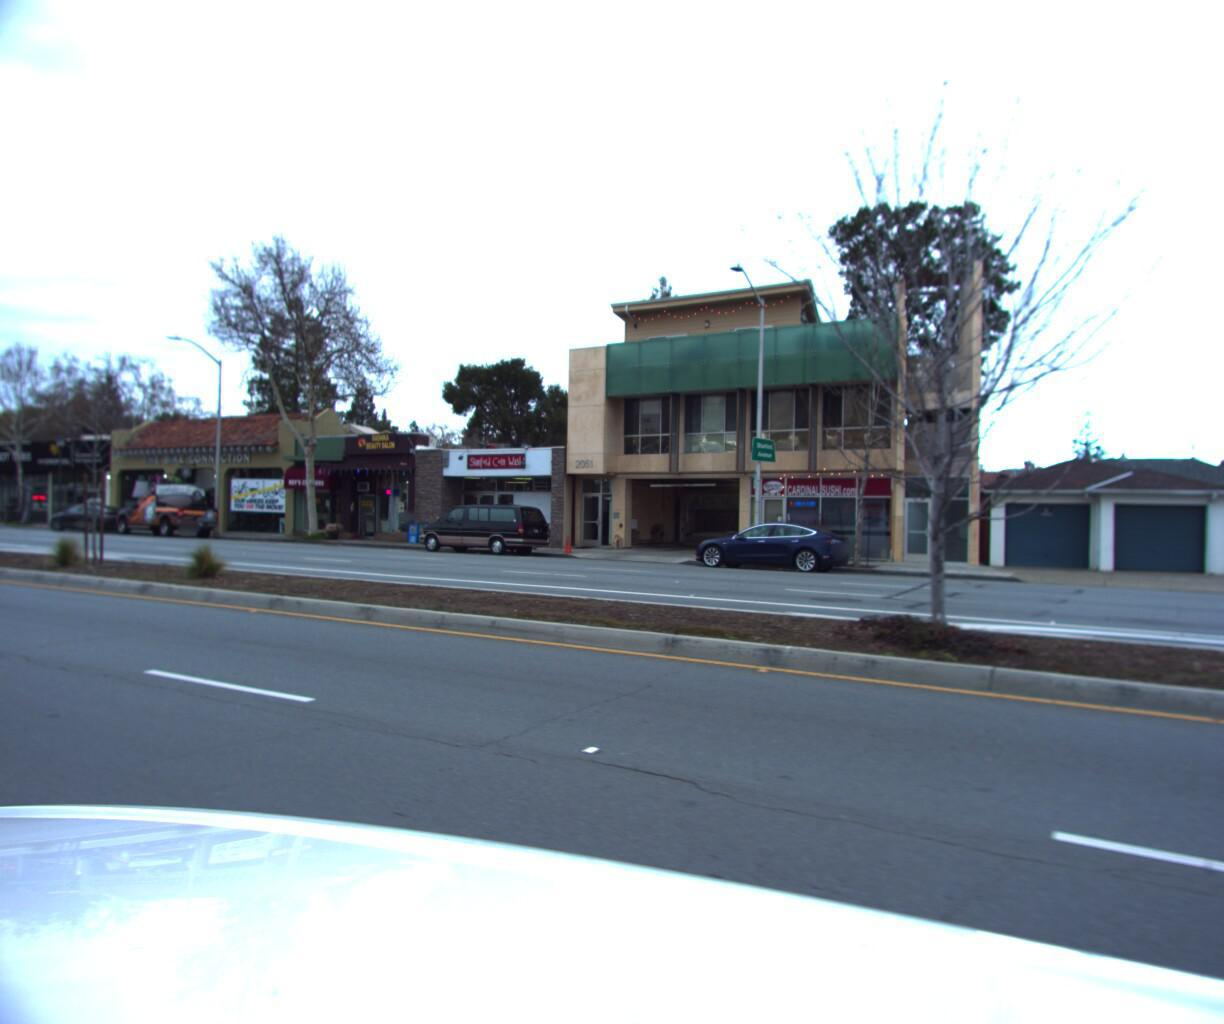car: (681, 517, 858, 575), (409, 503, 554, 558), (106, 501, 226, 543), (36, 504, 137, 538)
